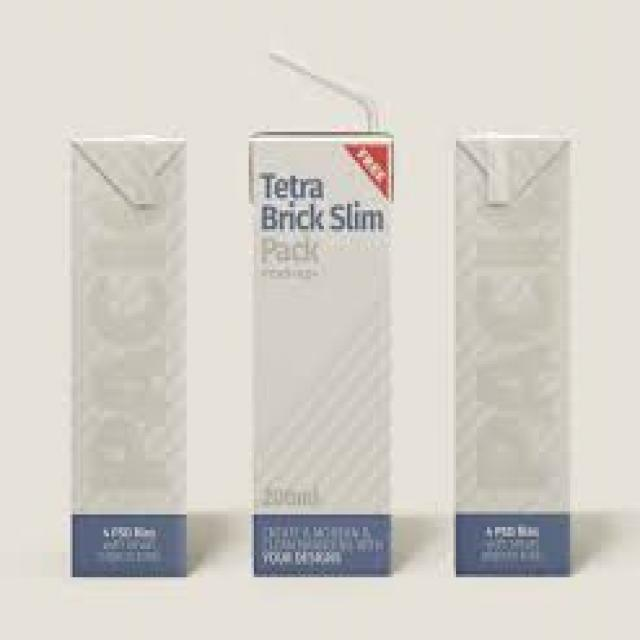non_white_jug: (240, 113, 406, 590), (444, 122, 587, 596), (51, 127, 193, 591)
